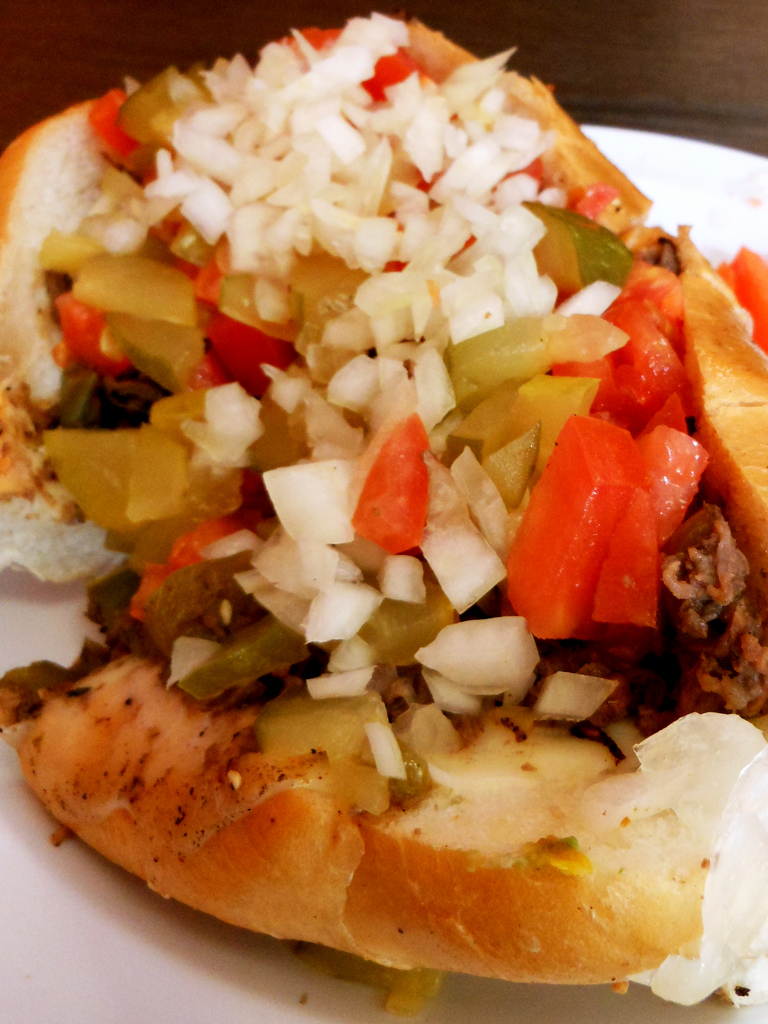slice of bread: (19, 636, 747, 964)
